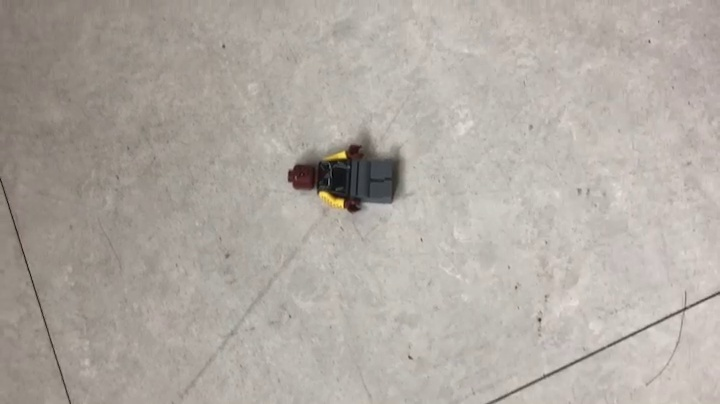people: (286, 141, 402, 215)
